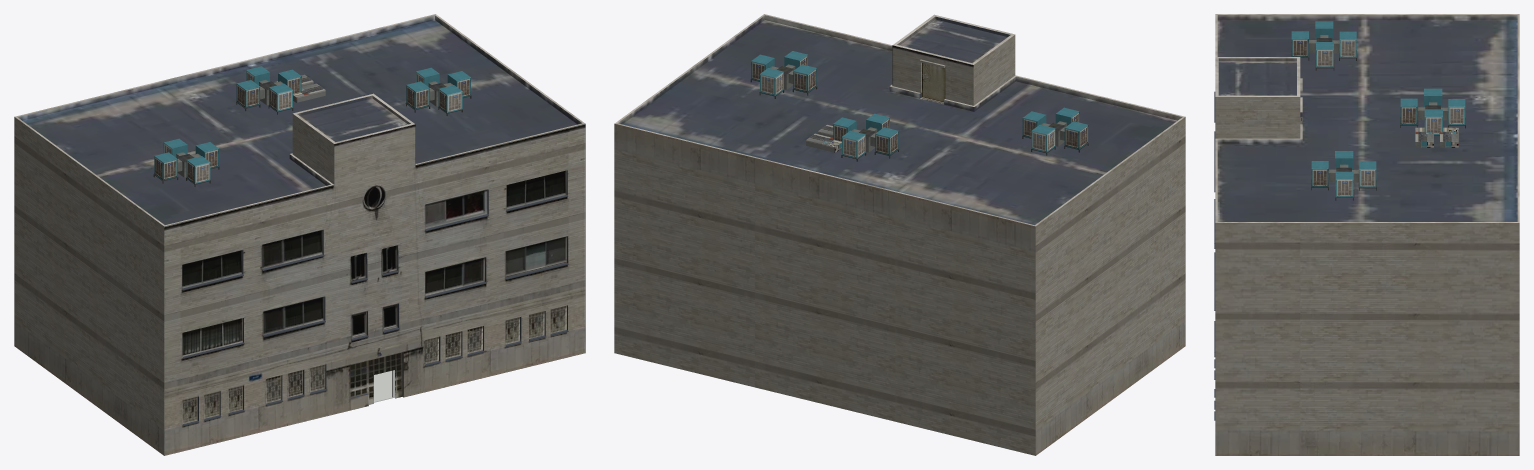
File: hospital.access-v6.lod0.glb
3 renders of one model, left to right at view 1: azimuth 30°, elevation 25°; view 2: azimuth 150°, elevation 25°; view 3: azimuth 270°, elevation 25°, orthographic.
Visible parts, largest first — view 1: Building00_House_0, Building00_Building_Roof_Detail_0, Walkable floors and stairs; view 2: Building00_House_0, Building00_Building_Roof_Detail_0; view 3: Building00_House_0, Building00_Building_Roof_Detail_0.
Boxes of the visible parts, bbox=[...] form: Building00_House_0: bbox=[14, 14, 585, 455]; Building00_Building_Roof_Detail_0: bbox=[153, 66, 471, 186]; Walkable floors and stairs: bbox=[374, 370, 394, 402]; Building00_House_0: bbox=[614, 14, 1185, 455]; Building00_Building_Roof_Detail_0: bbox=[750, 51, 1088, 161]; Building00_House_0: bbox=[1214, 14, 1519, 455]; Building00_Building_Roof_Detail_0: bbox=[1291, 21, 1465, 200].
Size of the model in its own units: 40 by 24.53 by 24.73.
Materials: 3 (2 with a texture image).
